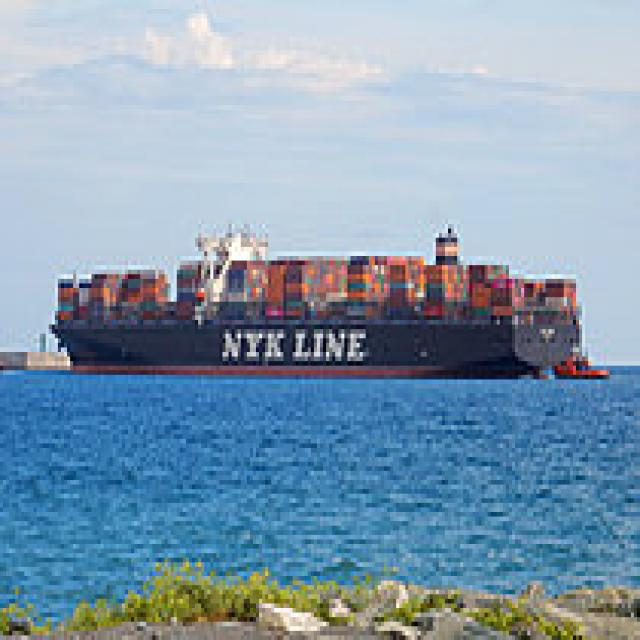Cargo: (43, 210, 582, 375)
